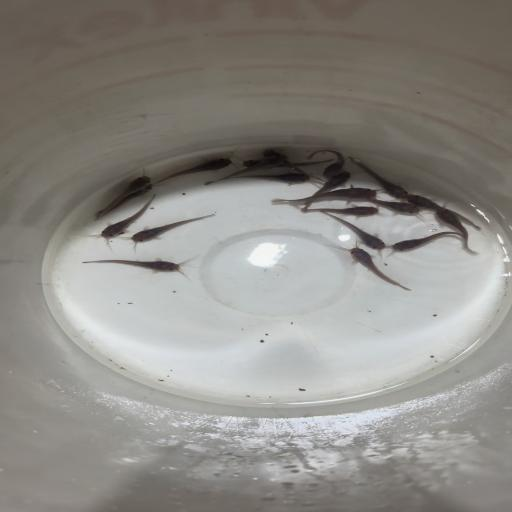lele: (126, 212, 218, 250), (338, 244, 412, 291), (91, 195, 158, 243), (402, 194, 486, 230), (77, 254, 211, 276), (204, 154, 288, 186), (319, 212, 388, 250), (270, 186, 378, 210), (348, 156, 408, 199), (87, 173, 154, 211), (152, 156, 234, 185), (299, 171, 353, 215), (261, 149, 328, 182), (433, 209, 482, 254), (98, 184, 157, 218), (388, 230, 465, 256), (238, 154, 334, 169), (218, 172, 310, 187), (288, 204, 380, 218), (305, 148, 348, 177), (372, 198, 423, 215)
